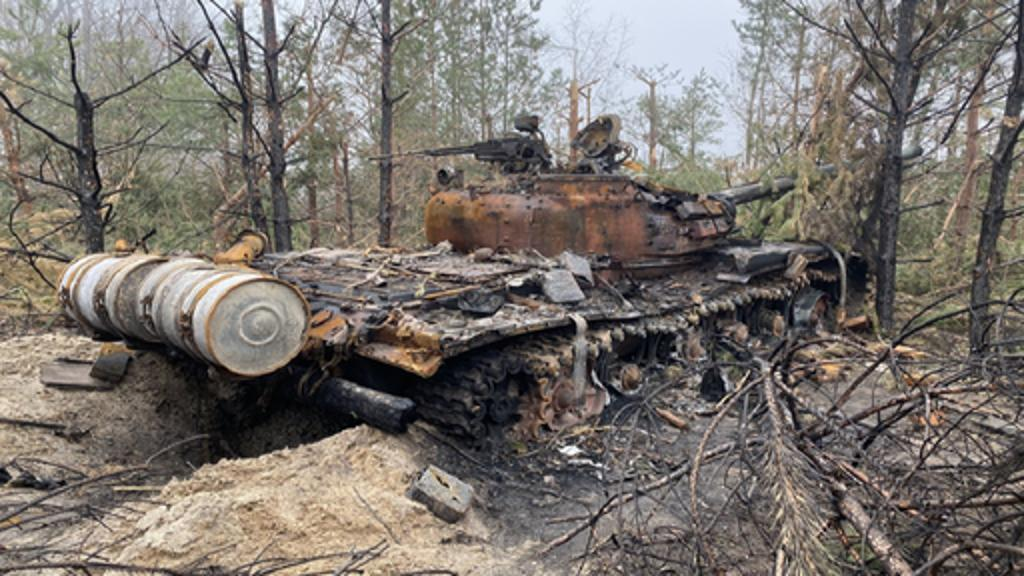TANK: (66, 144, 862, 456)
